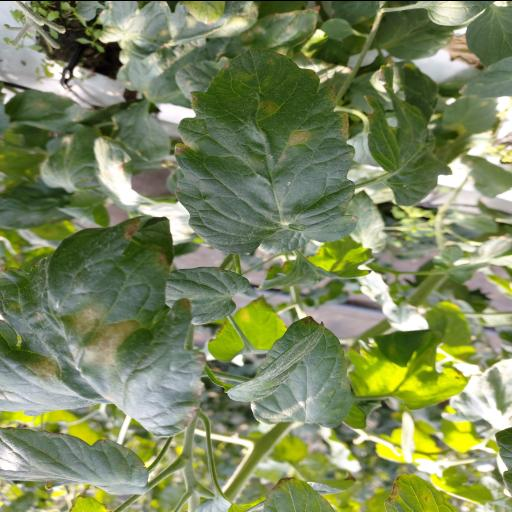disease_tomato: (0, 216, 206, 438), (170, 45, 360, 251)
